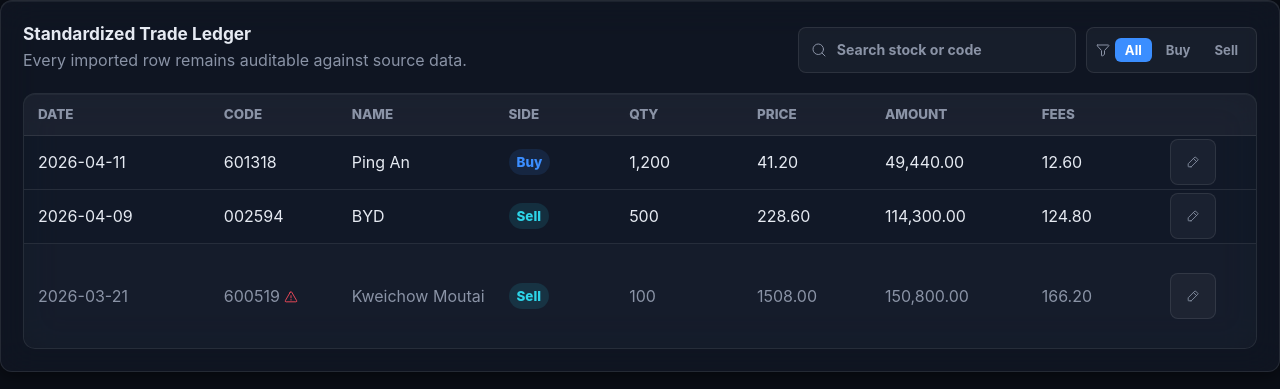
it: LedgerView › filters by side using filter chips
The width and height of the screenshot is (1280, 389).
// Click "Sell" filter chip (use the button, not the table label)
What coordinates should you click on to do the following:
click the button "Sell"
I would click on:
 (1226, 50)
Its box is top-left (1204, 38), bottom-right (1248, 62).
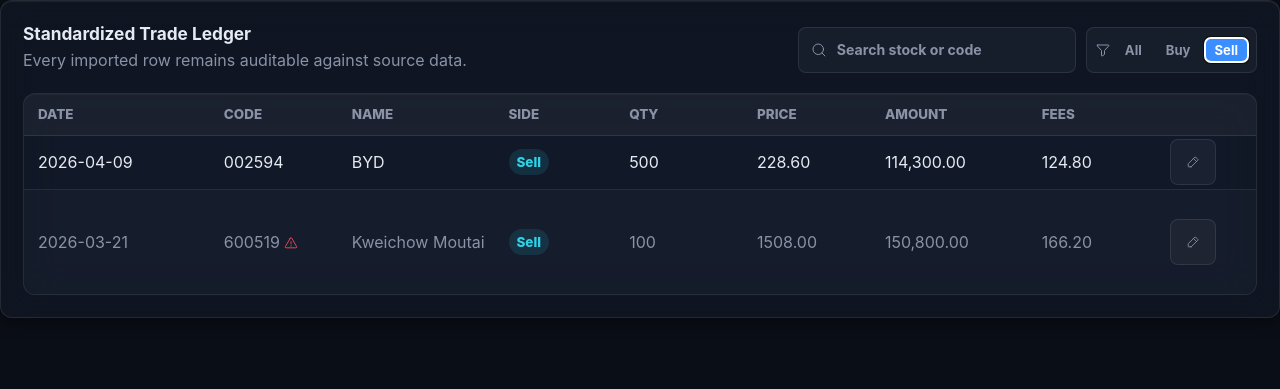
Expected: the text "BYD" is shown, top-left (352, 152), bottom-right (385, 172)
Expected: the text "Ping An" is gone
